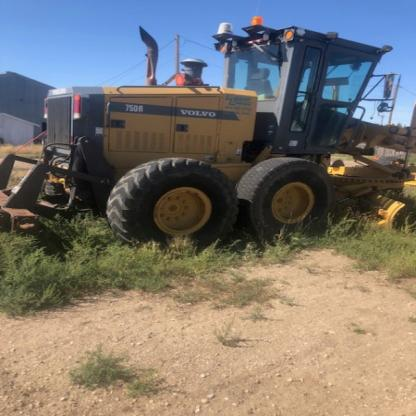bull_dozer/loader/grader: (20, 12, 415, 265)
